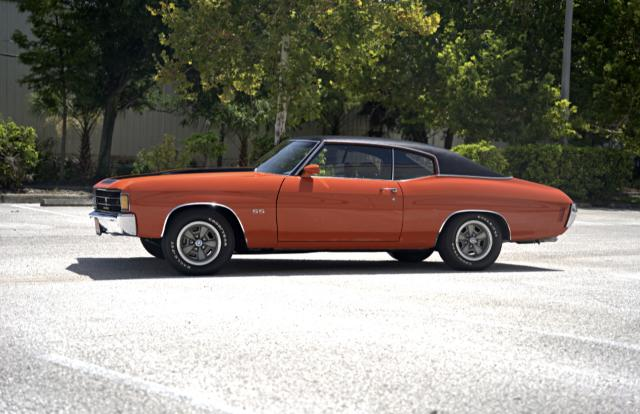chevelle-1972: (90, 137, 576, 275)
